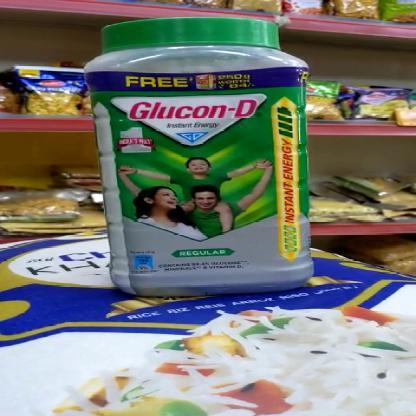Glucon D Regular 2-KG: (93, 16, 310, 294)
